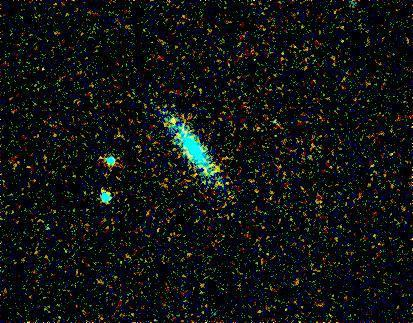star: (157, 105, 187, 135)
